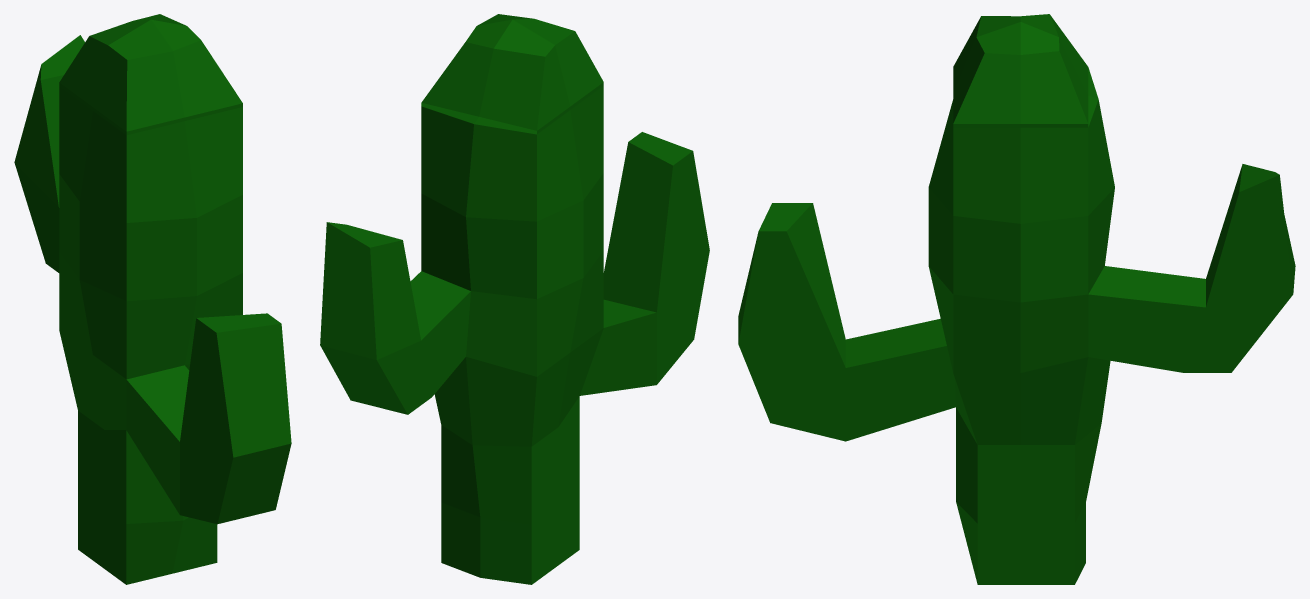
Rendered from Cacto.fbx.
3 renders of one model, left to right at view 1: azimuth 30°, elevation 25°; view 2: azimuth 150°, elevation 25°; view 3: azimuth 270°, elevation 25°, orthographic.
Parts seen in each view (by area): view 1: Cube; view 2: Cube; view 3: Cube.
Part boxes in pixels (box(x1,y1,x2,y2)): Cube: box(14, 14, 291, 584); Cube: box(320, 14, 709, 584); Cube: box(738, 14, 1295, 584).
Bounding box in the file's own units: 251 × 883 × 824.
1 material, 1 textured.
